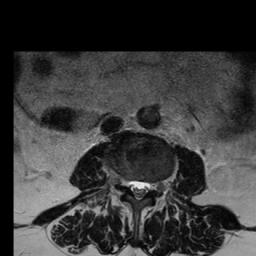CCS_normal: (135, 170, 142, 207)
LFS_normal: (150, 171, 158, 198)
LLS_normal: (142, 171, 150, 202)
RFS_normal: (120, 167, 128, 195)
RLS_normal: (128, 170, 135, 202)
